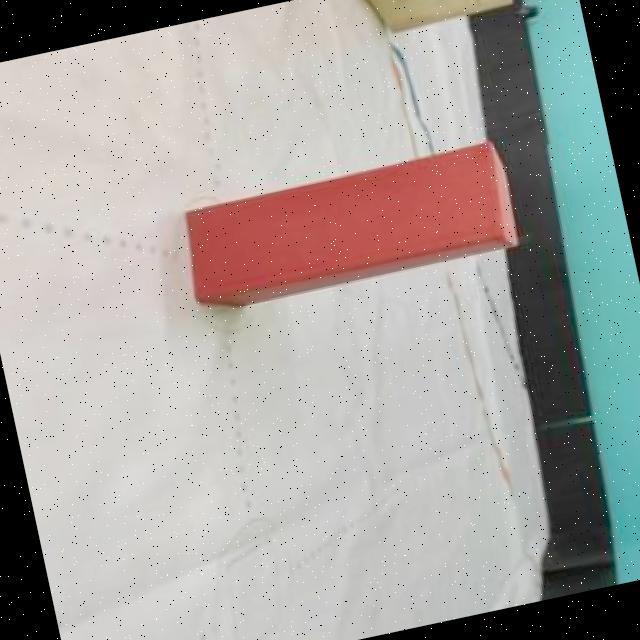redbox: (172, 137, 524, 320)
